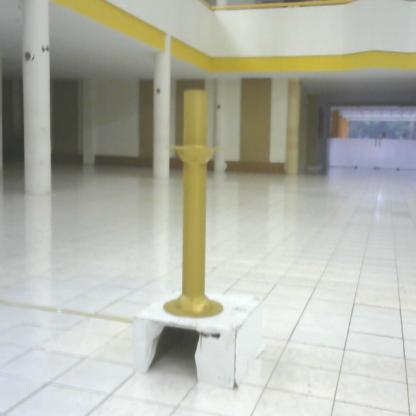pole: (164, 80, 229, 331)
